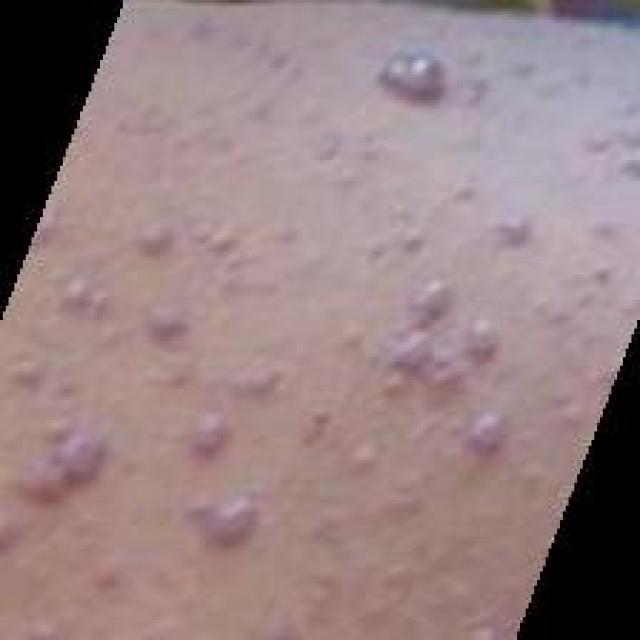others: (75, 12, 575, 606)
